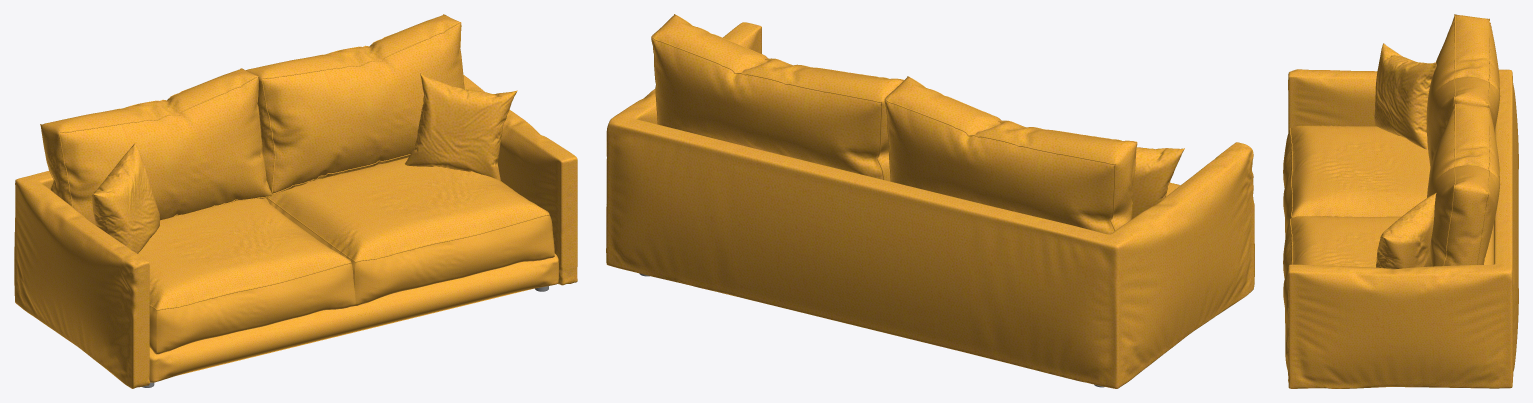
File: MOD_ART_ThreeRooms.fbx_Sofa.fbx
The picture shows the model from 3 angles, left to right: view 1: azimuth 30°, elevation 25°; view 2: azimuth 150°, elevation 25°; view 3: azimuth 270°, elevation 25°; orthographic projection. The views are drawn at different scales.
Visible parts, largest first — view 1: Go small Campeggi sofa yellow, Cube.038, Cube.039, Cube.034, Cube.035, Cube.046, Cube.037, Cube.036; view 2: Go small Campeggi sofa yellow, Cube.039, Cube.035, Cube.036; view 3: Go small Campeggi sofa yellow, Cube.034, Cube.039, Cube.035, Cube.038, Cube.036, Cube.037, Cube.046.
Boxes of the visible parts, x1,y1,x2,y2 form: Go small Campeggi sofa yellow: (14,75,577,388); Cube.038: (266,157,554,305); Cube.039: (246,14,464,194); Cube.034: (138,198,355,354); Cube.035: (40,68,272,225); Cube.046: (149,253,558,382); Cube.037: (405,73,517,181); Cube.036: (92,143,159,253); Go small Campeggi sofa yellow: (606,22,1254,388); Cube.039: (651,14,903,181); Cube.035: (884,76,1137,234); Cube.036: (1132,147,1184,218); Go small Campeggi sofa yellow: (1288,69,1518,388); Cube.034: (1283,125,1430,237); Cube.039: (1427,102,1500,266); Cube.035: (1426,14,1500,168); Cube.038: (1283,216,1401,347); Cube.036: (1374,43,1436,149); Cube.037: (1376,193,1436,269); Cube.046: (1285,224,1493,375).
Bounding box in the file's own units: 206 × 89.46 × 96.7.
Materials: 2 (1 with a texture image).
